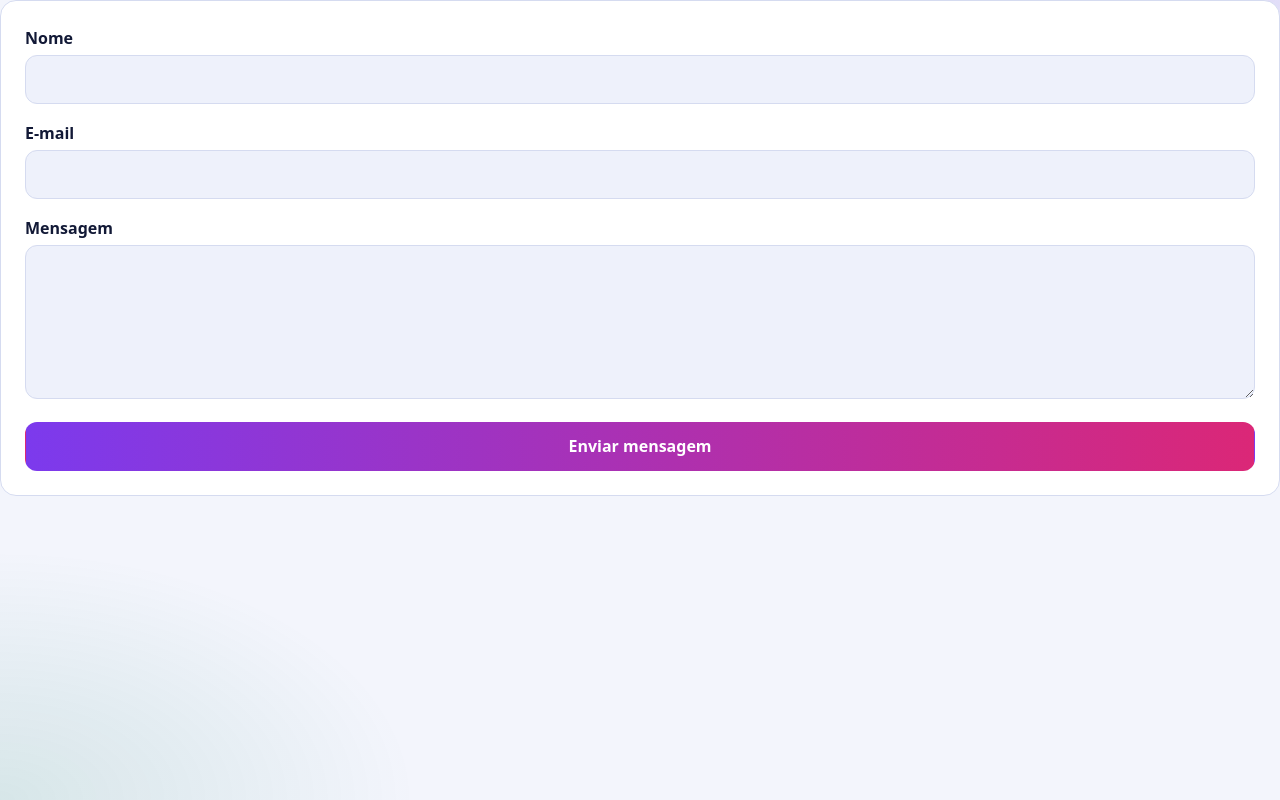
Test: ContactForm › rejeita e-mail inválido e mensagem curta
This screenshot has width=1280, height=800.
Step 1. Type "Ana" into the field labelled "Nome" → (640, 80), box left=25, top=55, right=1255, bottom=104
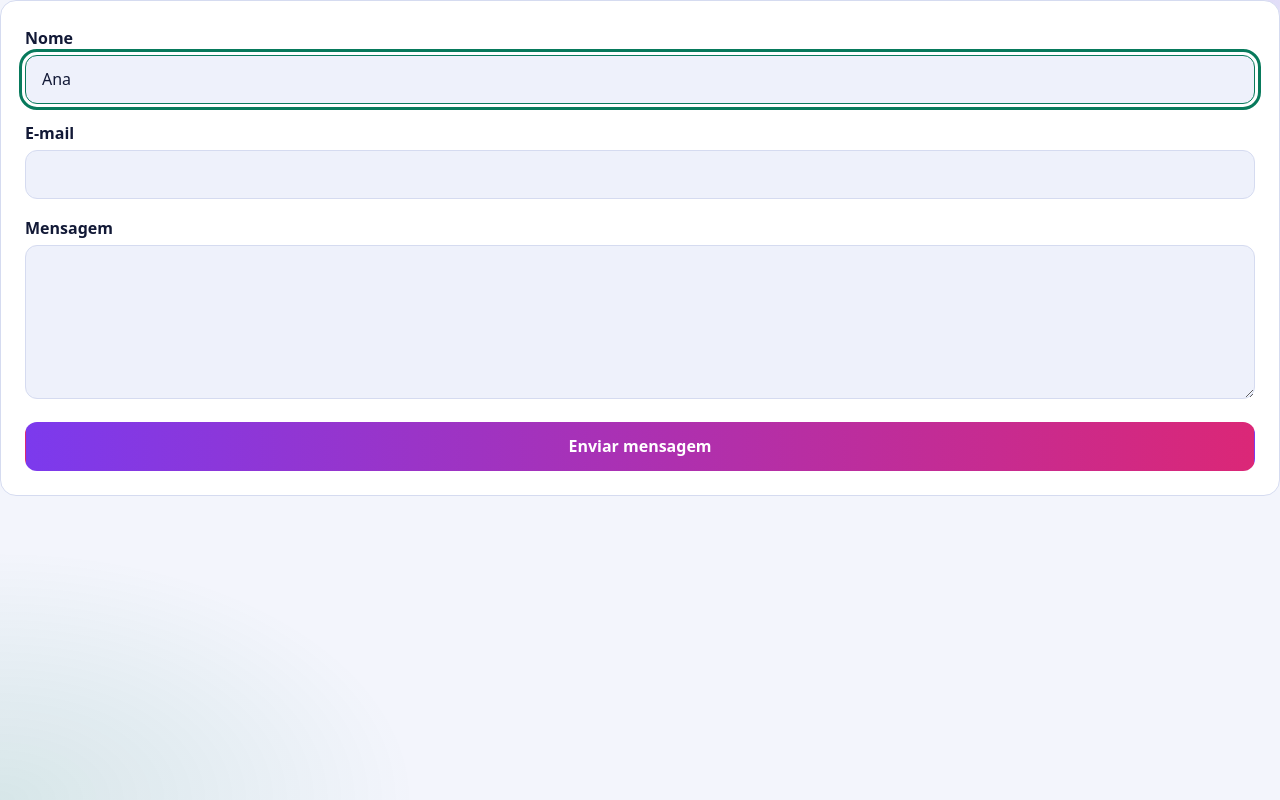
Step 2. Type "ana-sem-arroba" into the field labelled "E-mail" → (640, 174), box left=25, top=150, right=1255, bottom=199
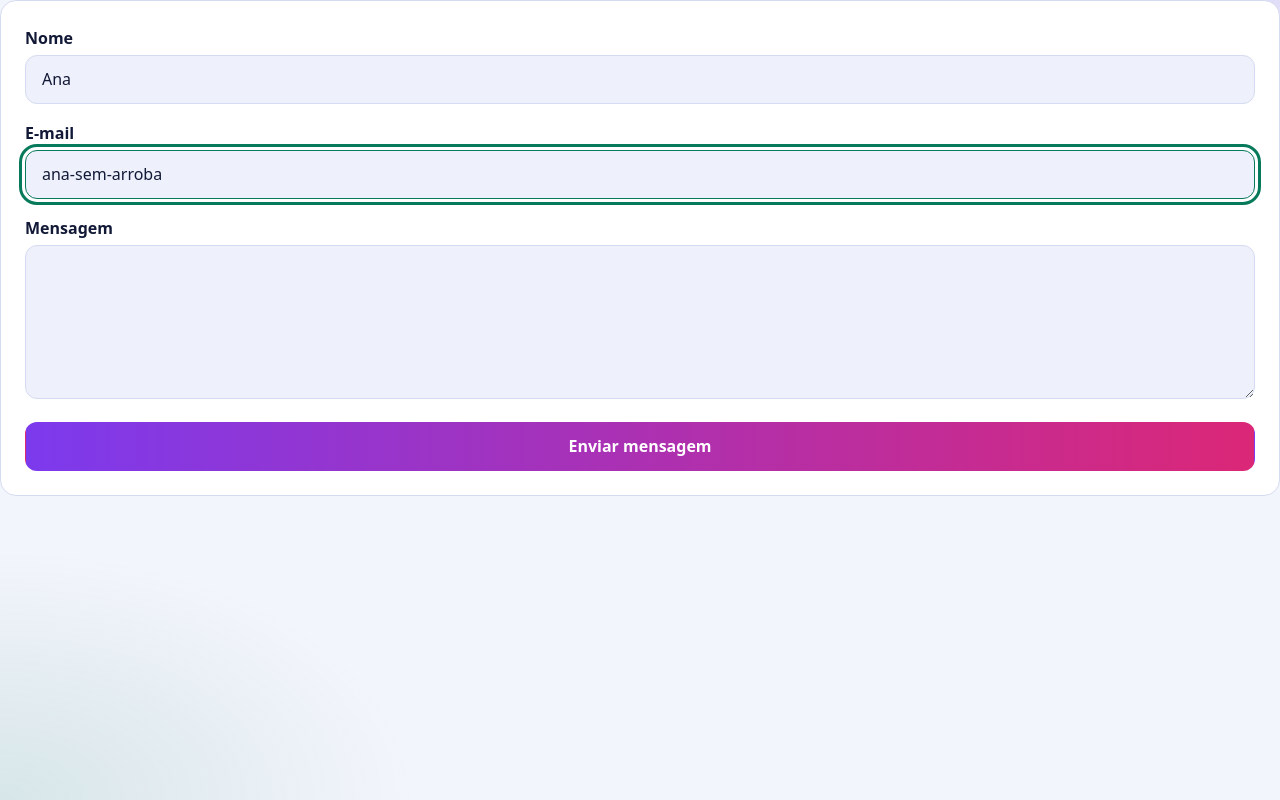
Step 3. Type "curta" into the text box labelled "Mensagem" → (640, 322), box left=25, top=245, right=1255, bottom=399
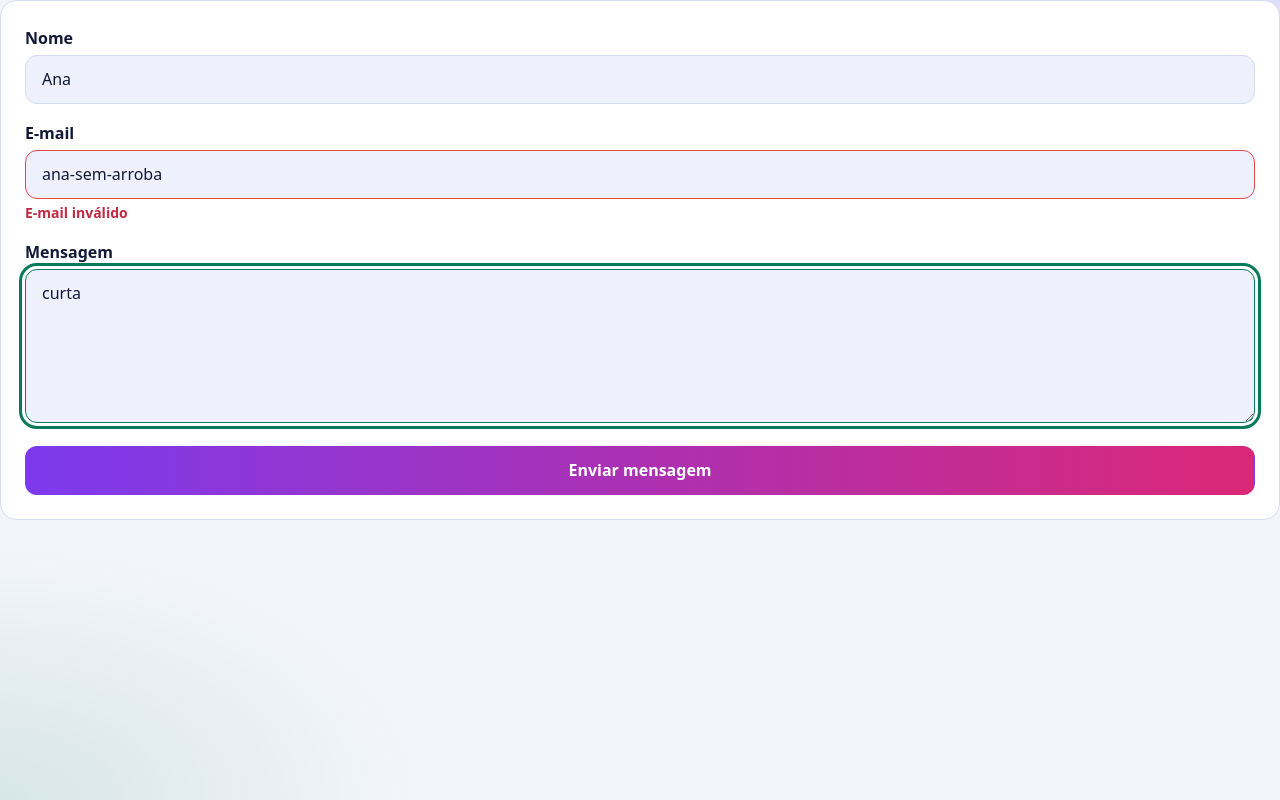
Step 4. Click the button "Enviar mensagem" → (640, 470), box left=25, top=446, right=1255, bottom=495
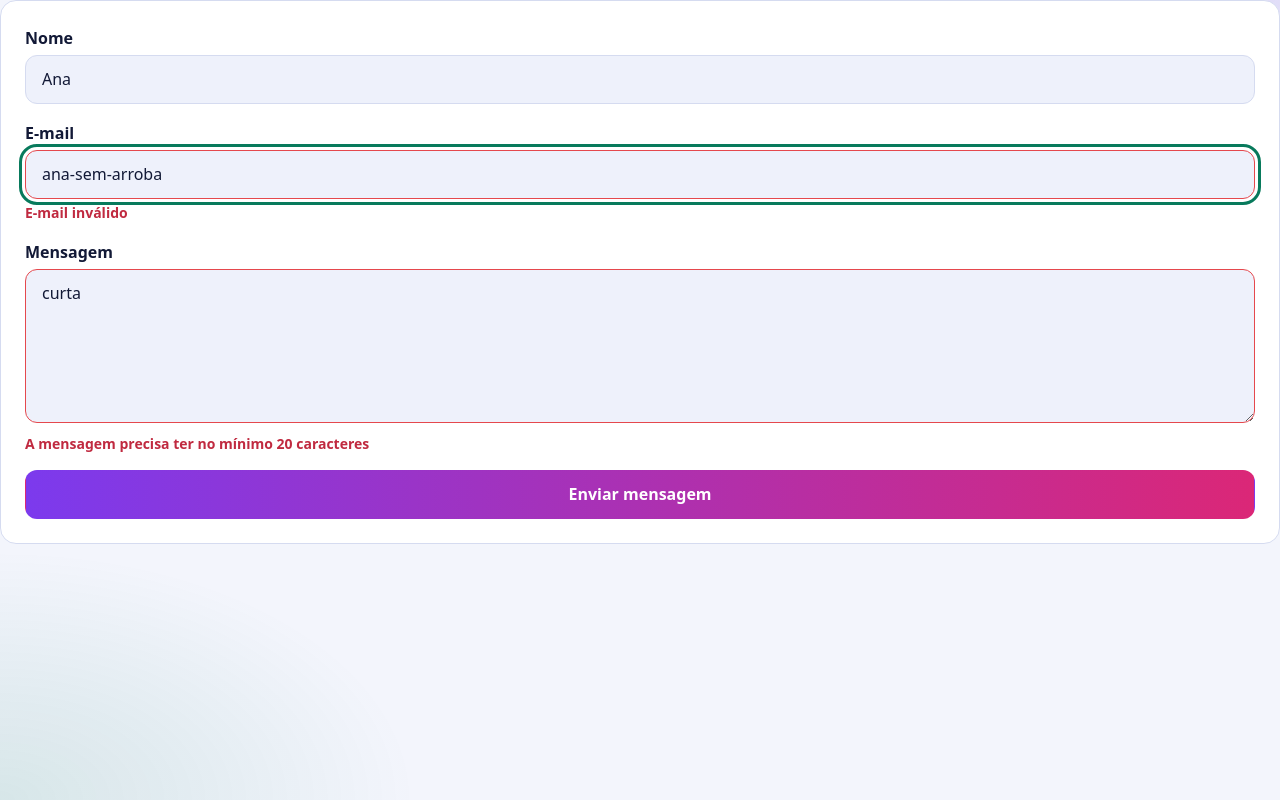
Now the text "E-mail inválido" is shown, box left=25, top=203, right=128, bottom=222
Now the text "A mensagem precisa ter no mínimo 20 caracteres" is shown, box left=25, top=434, right=369, bottom=453
